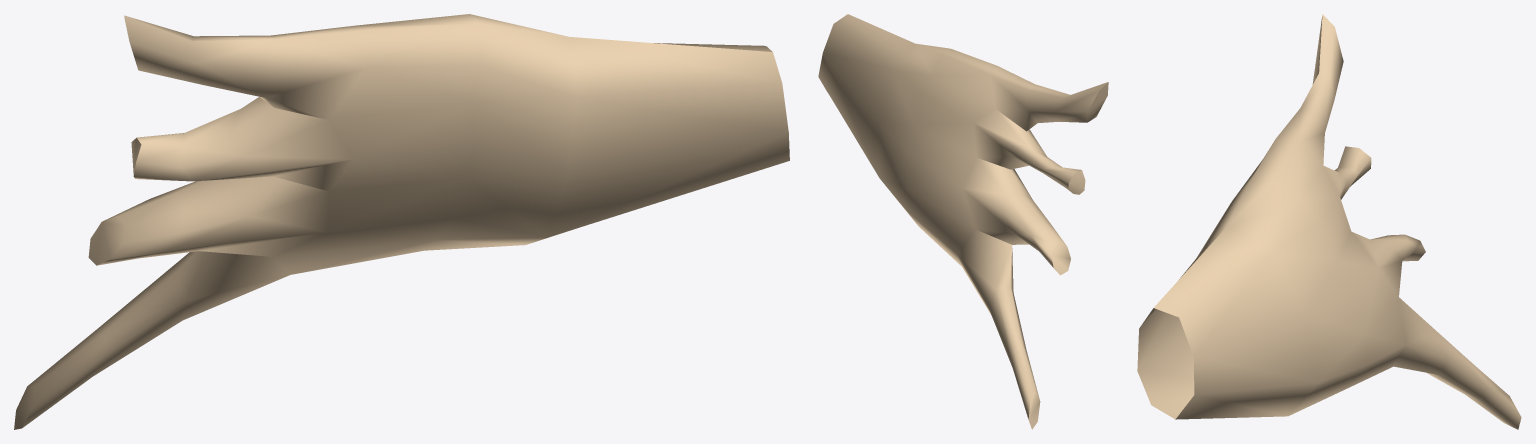
Rendered from L_B_Vagus_Nerve01.fbx.
The picture shows the model from 3 angles, left to right: view 1: azimuth 30°, elevation 25°; view 2: azimuth 150°, elevation 25°; view 3: azimuth 270°, elevation 25°; orthographic projection. The views are drawn at different scales.
Parts seen in each view (by area): view 1: L_B_Vagus_Nerve; view 2: L_B_Vagus_Nerve; view 3: L_B_Vagus_Nerve.
Part boxes in pixels (left/top/right/bottom): L_B_Vagus_Nerve: left=14, top=14, right=789, bottom=429; L_B_Vagus_Nerve: left=818, top=14, right=1108, bottom=429; L_B_Vagus_Nerve: left=1137, top=14, right=1521, bottom=429.
Size of the model in its own units: 0.3698 by 0.3127 by 0.2642.
